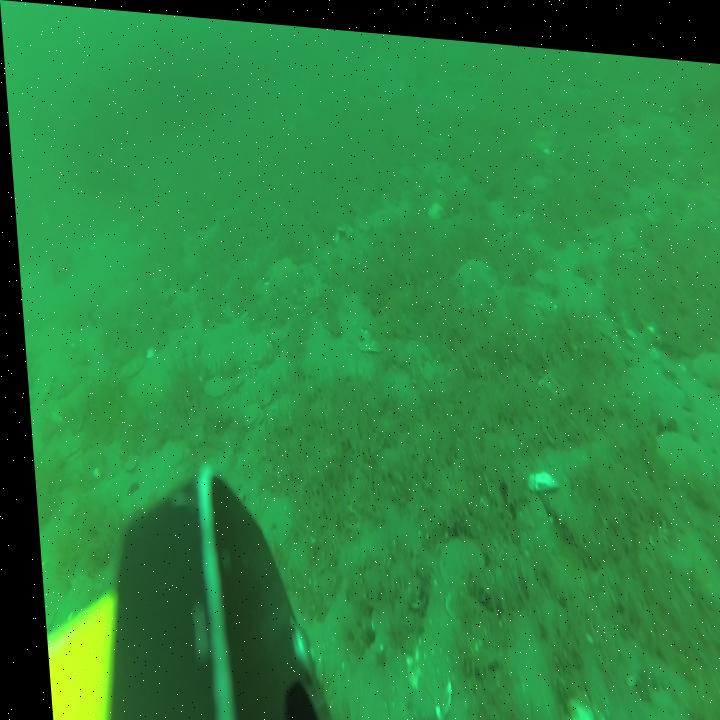scallop: (648, 416, 709, 482), (431, 525, 479, 587), (251, 491, 286, 545), (687, 333, 720, 382), (51, 428, 81, 464), (198, 369, 229, 401), (240, 330, 266, 366), (114, 351, 142, 382), (235, 397, 257, 425)
starfish: (448, 250, 496, 300), (264, 251, 296, 290)
